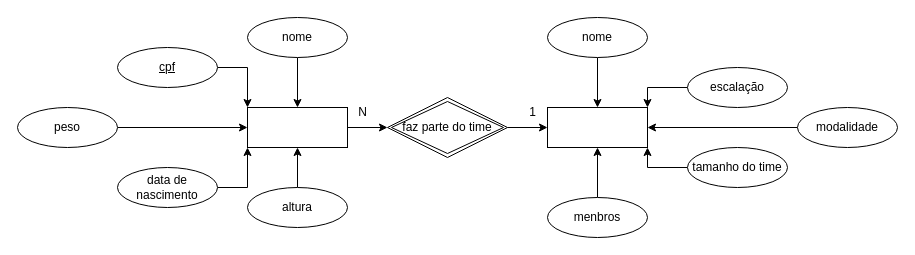
Some shapes in this 915 by 255 pixel diagram are drawn without their labels. Here are the shapes that lost their labels. From the top down, the centre of each, then its label:
At pixel 297 127: "jogadores".
At pixel 597 127: "equipe".
